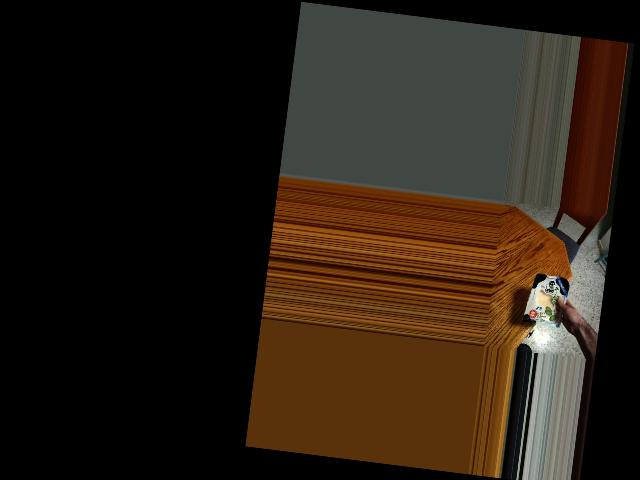cheese: (522, 265, 573, 334)
